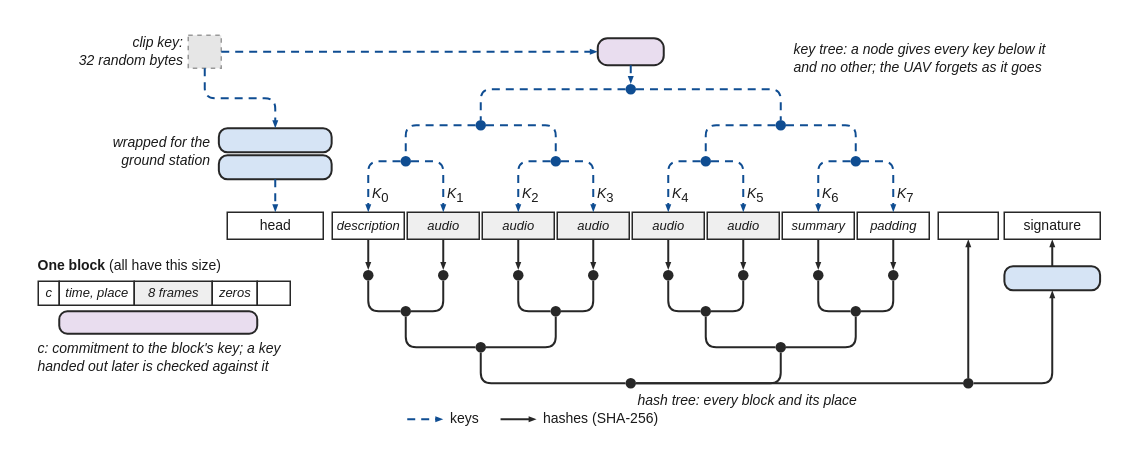
This 1142x462 diagram has some shape labels left out. Grey dashed boxes stand in for pictures. Each missing label, with the box of its shape:
AES-256-GCM, its own key: (57, 309, 257, 334)
HKDF: (596, 36, 664, 65)
ML-DSA-87: (1003, 264, 1100, 290)
ML-KEM-1024: (217, 126, 332, 152)
root: (937, 211, 998, 239)
tag: (256, 280, 290, 305)
X25519: (217, 153, 332, 179)
